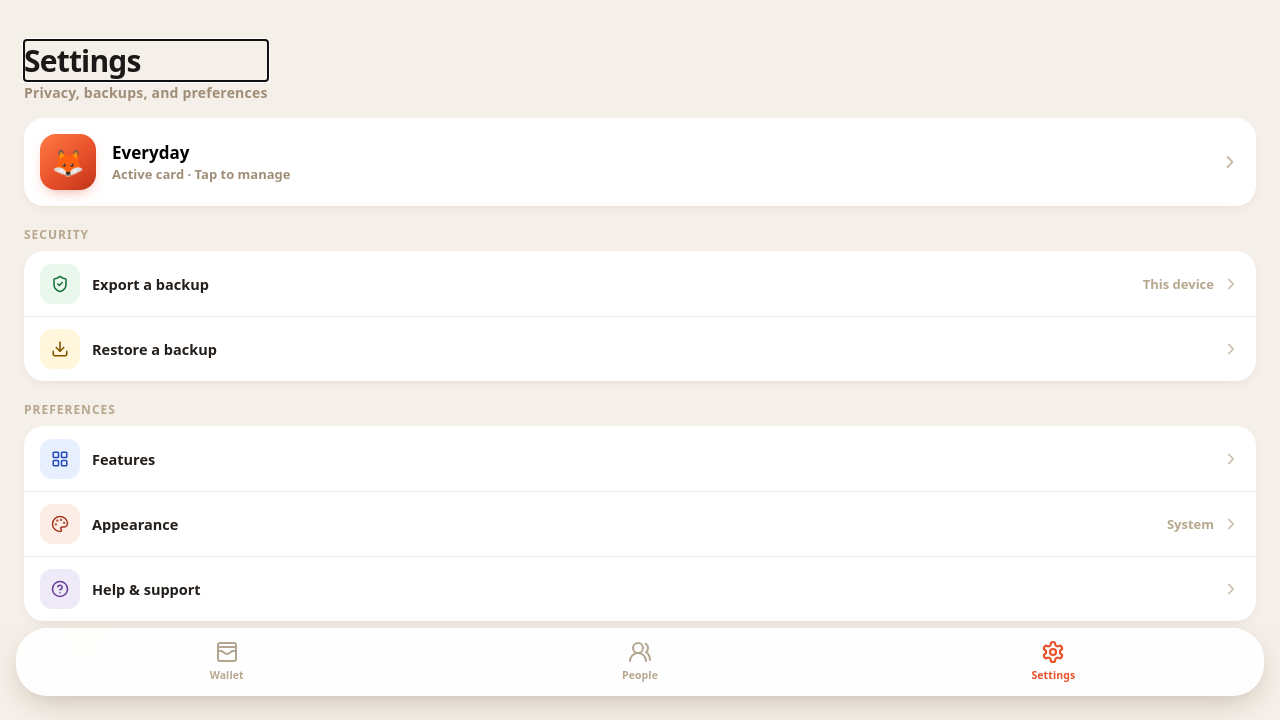
Test case: honest client-only wallet › keeps enablement separate from configurable dock placement
Click the button "Features": x=60, y=459 x1=24 y1=426 x2=1256 y2=491
(page scrolled)
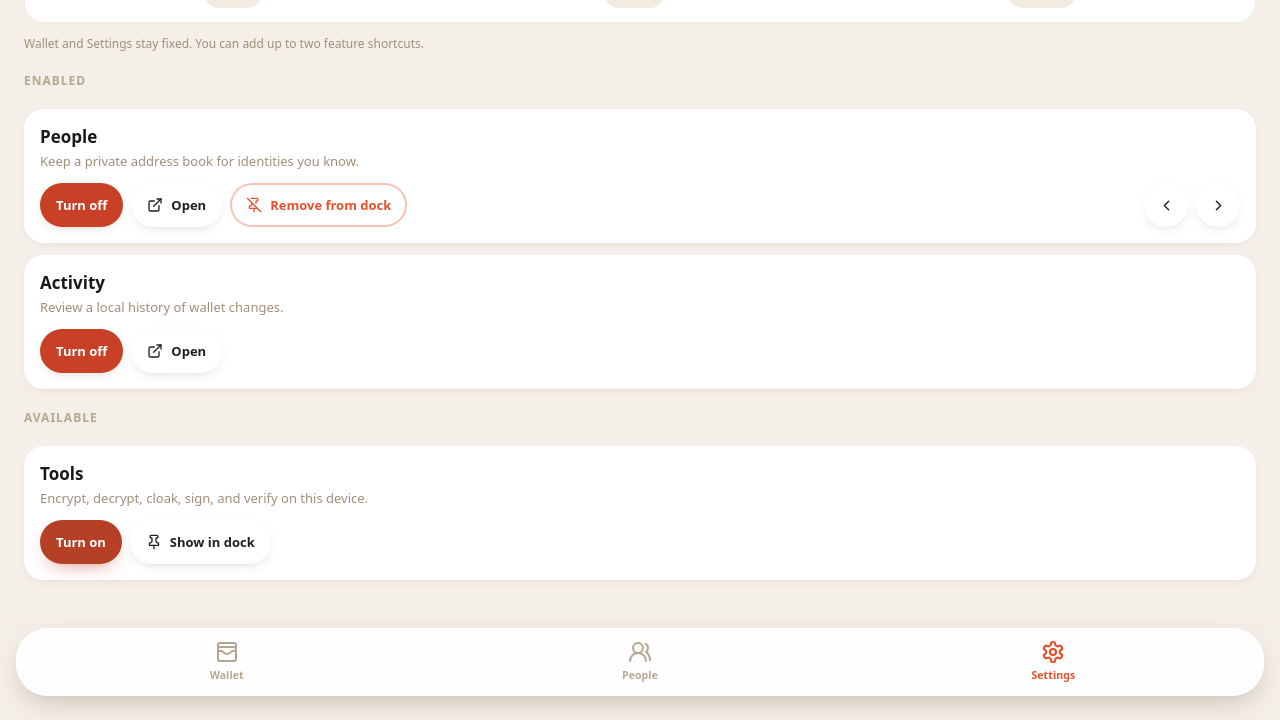
Expected: the button "Turn on" is shown
Click the button "Turn on": x=81, y=542 x1=40 y1=520 x2=122 y2=564
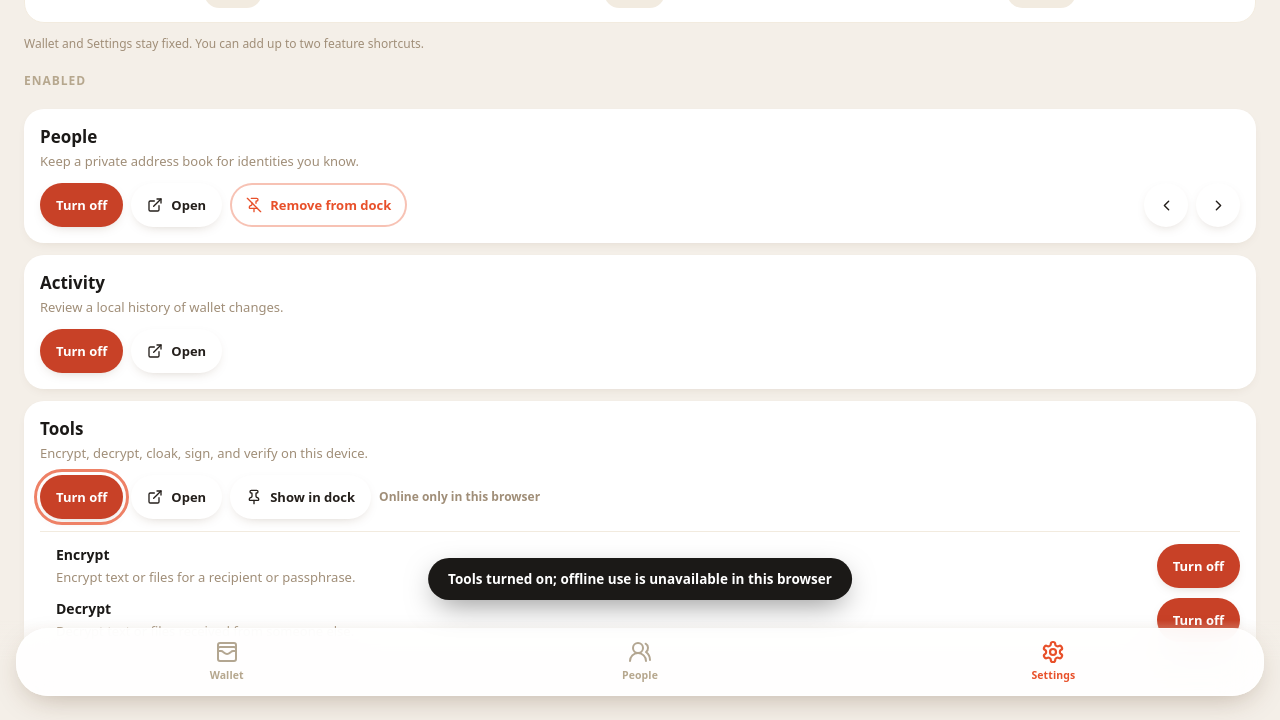
Click the button "Show in dock": x=301, y=497 x1=230 y1=475 x2=371 y2=519
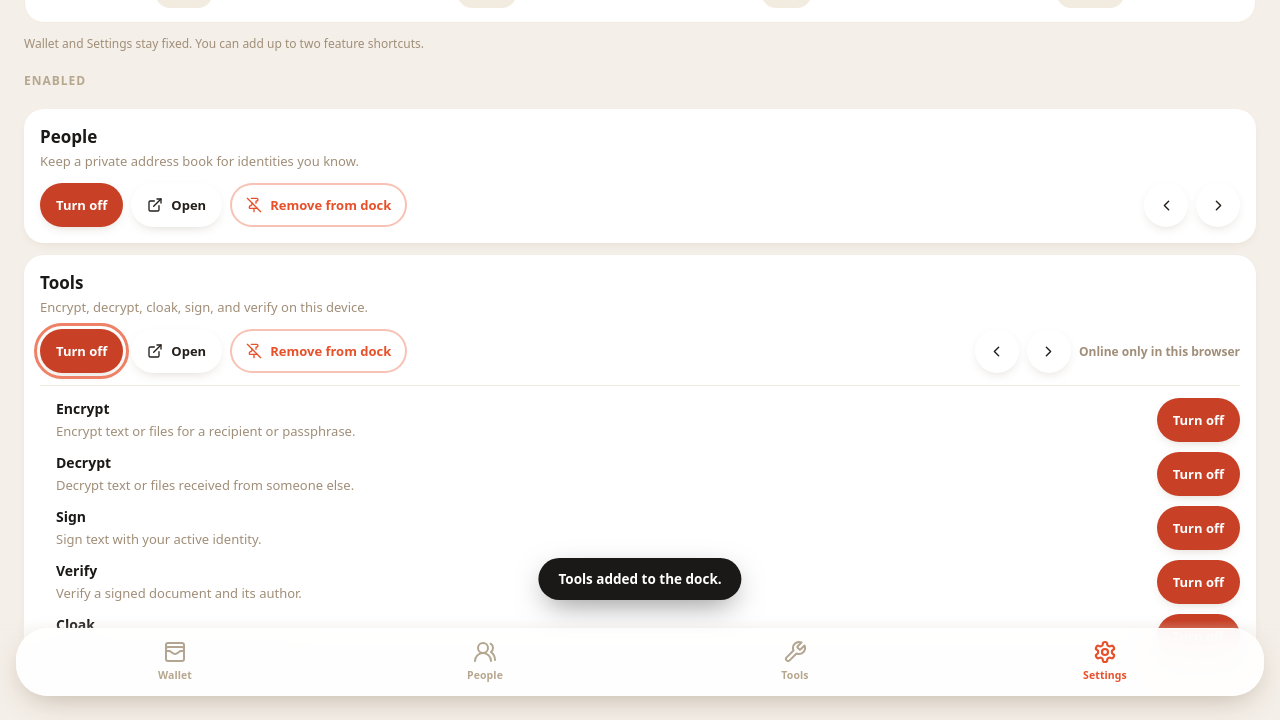
Click the button named "Move Tools earlier": x=997, y=351 x1=975 y1=329 x2=1019 y2=373
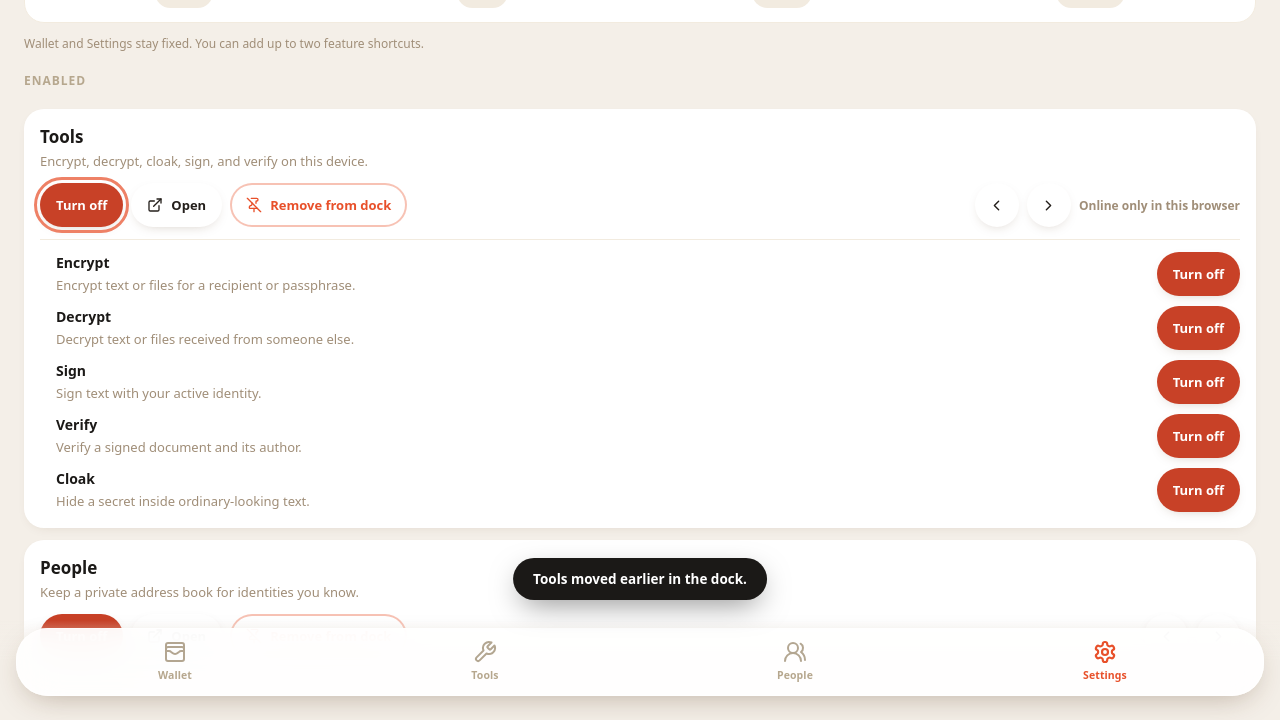
Click the button "Remove from dock": x=319, y=205 x1=230 y1=183 x2=407 y2=227
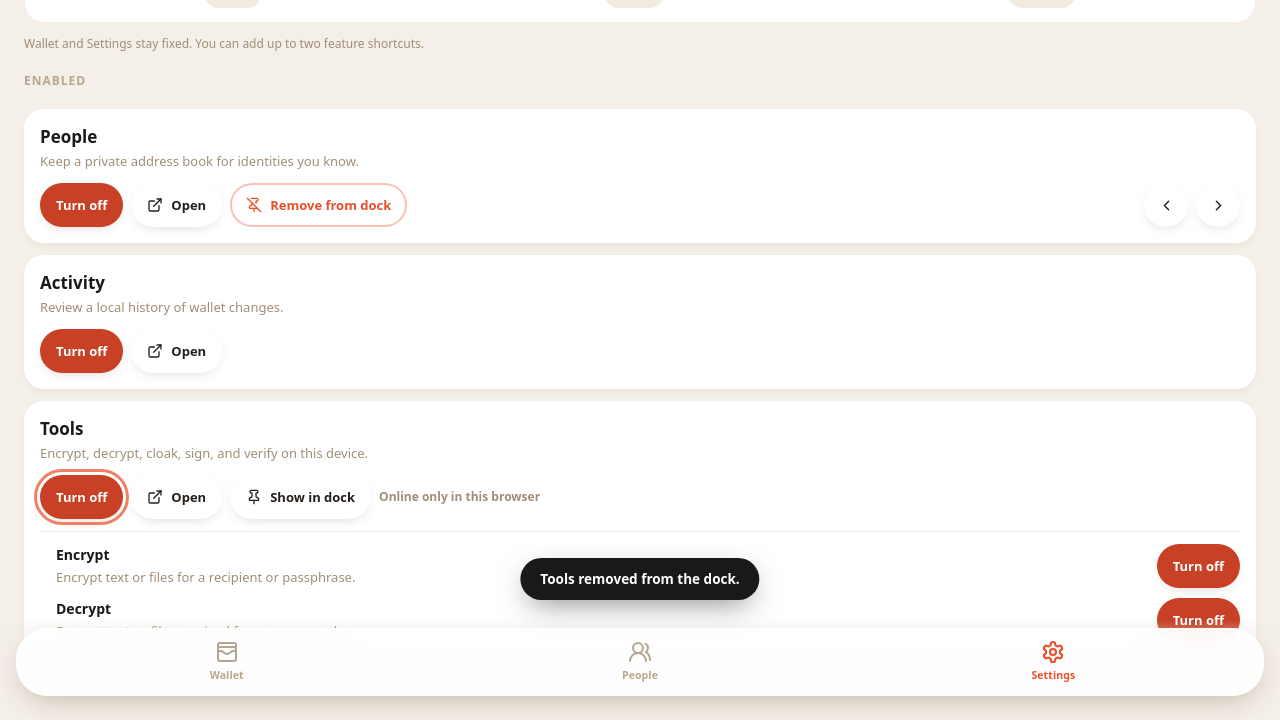
Expected: the button "Turn off" in the row of "Online only in this browser" is shown
Click the button "Turn off" in the row of "Online only in this browser": x=82, y=497 x1=40 y1=475 x2=123 y2=519
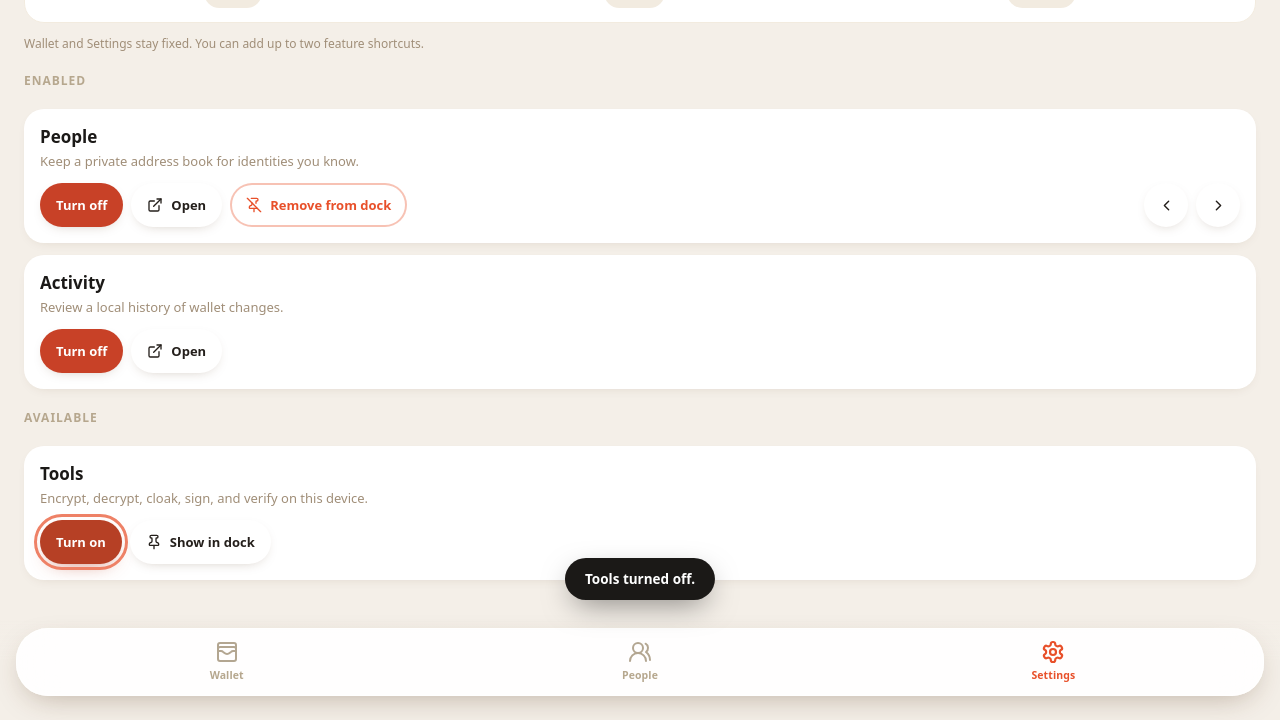
Expected: the button "Turn on" is shown, x1=40 y1=520 x2=122 y2=564
